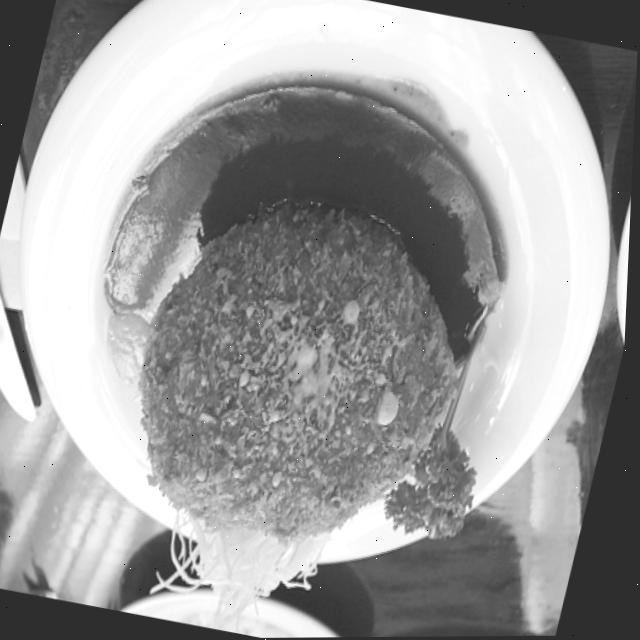炸货点心: (88, 153, 509, 598)
